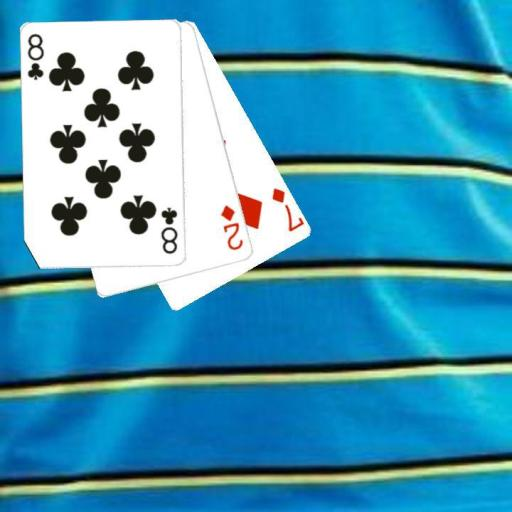2D: (218, 202, 245, 252)
7D: (269, 184, 304, 233)
8C: (158, 205, 180, 256), (24, 31, 46, 82)
